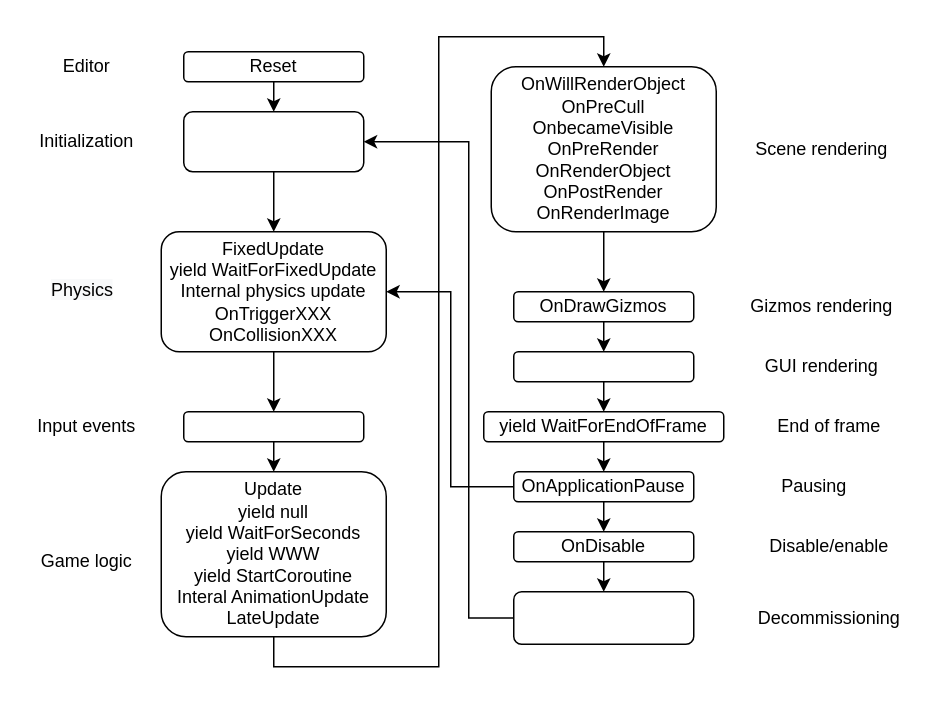
This 936x705 diagram has some shape labels left out. The shapes that lost their labels are listed below. From the top down, each one's box as (x1, y1, x2, y2) in pixels, then its label:
(182, 110, 364, 172): Awake OnEnable Start
(512, 350, 694, 382): OnGUI
(182, 410, 364, 442): OnMouseXXX
(512, 590, 694, 644): OnDestory OnApplicationQuit
